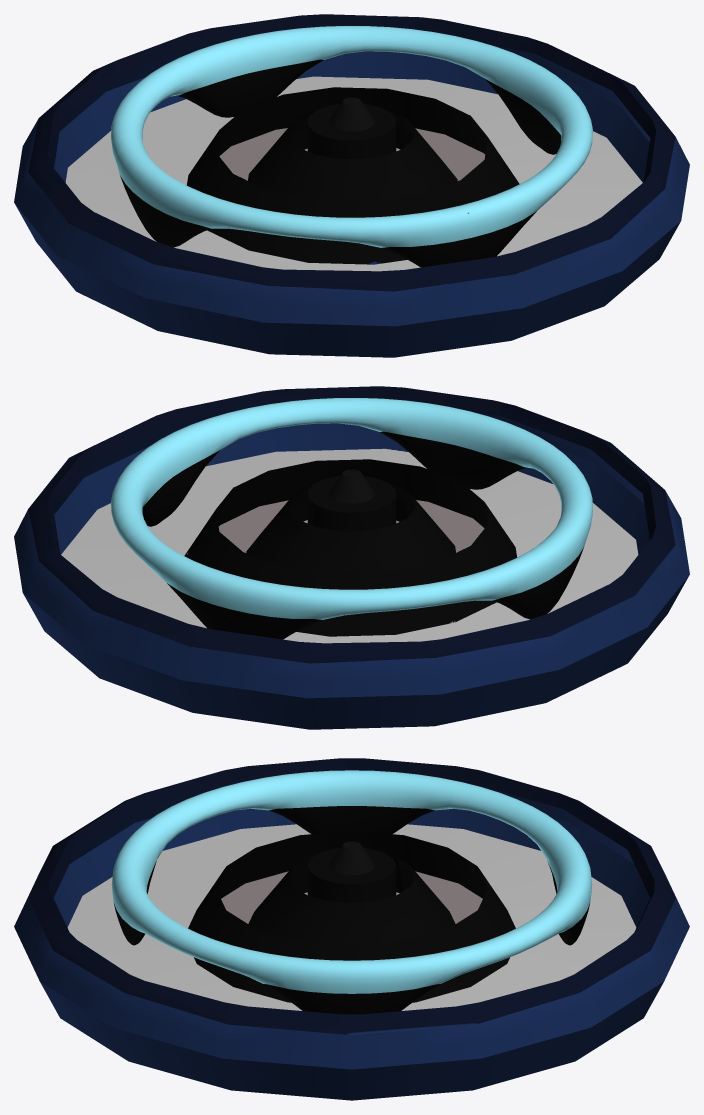
The model's file is Excursion_Funnel.fbx.
3 views of the same model, one above another, from view 1: azimuth 30°, elevation 25°; view 2: azimuth 150°, elevation 25°; view 3: azimuth 270°, elevation 25° (orthographic).
Visible parts, largest first — view 1: main circle, emitter circle; view 2: main circle, emitter circle; view 3: main circle, emitter circle.
Part boxes in pixels (x1=…): main circle: x1=14, y1=14, x2=689, y2=357; emitter circle: x1=111, y1=26, x2=592, y2=267; main circle: x1=14, y1=386, x2=689, y2=729; emitter circle: x1=111, y1=398, x2=592, y2=639; main circle: x1=14, y1=758, x2=689, y2=1100; emitter circle: x1=111, y1=770, x2=592, y2=1014.
Bounding box in the file's own units: 146 × 28.94 × 146.
Materials: 2 (2 with a texture image).
